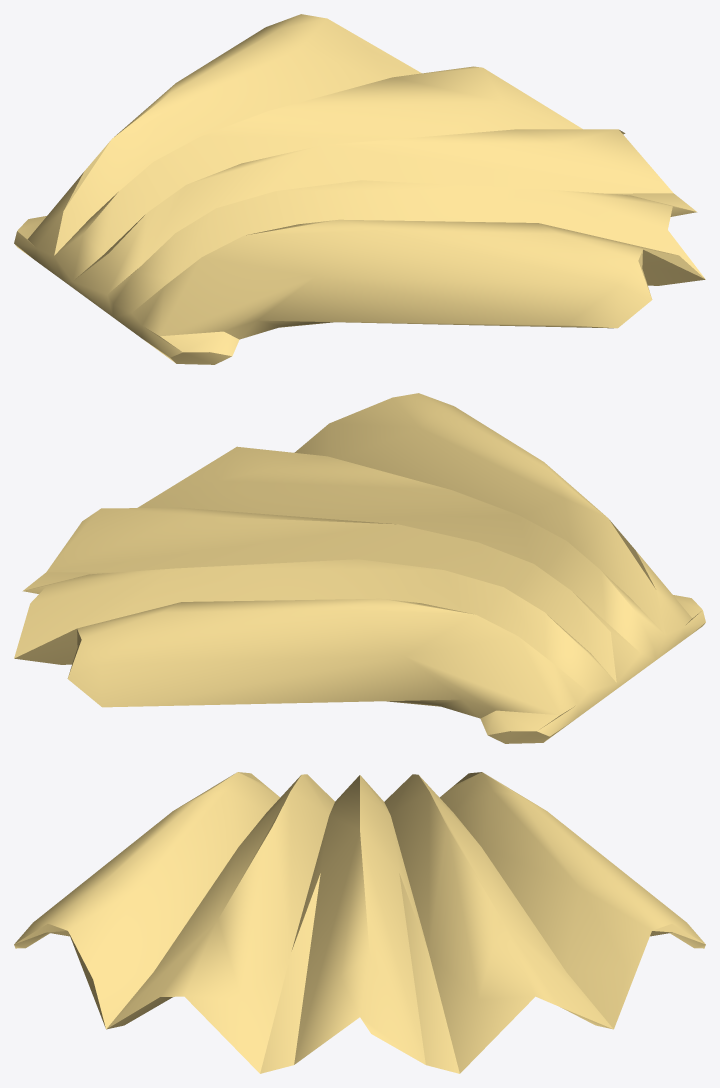
File: Scallops.fbx
3 renders of one model, top to bottom at view 1: azimuth 30°, elevation 25°; view 2: azimuth 150°, elevation 25°; view 3: azimuth 270°, elevation 25°, orthographic. The views are drawn at different scales.
Visible parts, largest first — view 1: Scallops; view 2: Scallops; view 3: Scallops.
Part boxes in pixels (left/top/right/bottom): Scallops: left=14, top=14, right=705, bottom=364; Scallops: left=14, top=393, right=705, bottom=743; Scallops: left=14, top=772, right=705, bottom=1073.
Bounding box in the file's own units: 262 × 52.59 × 306.
